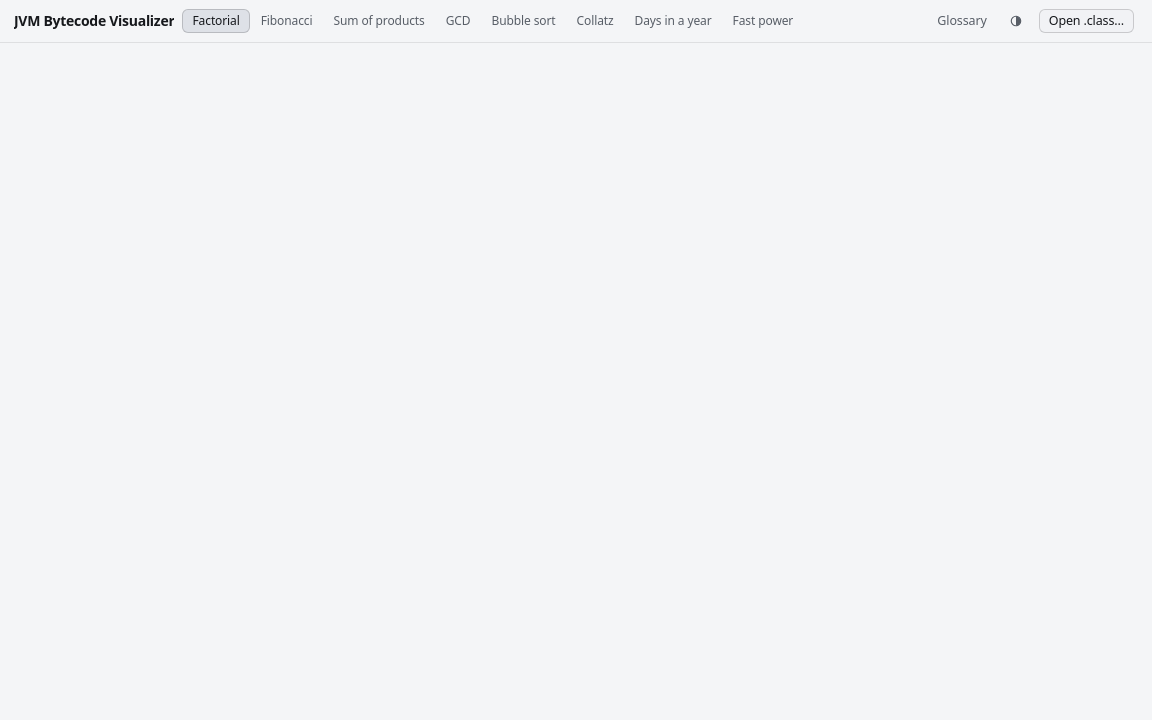
Test: Toolbar › opens the glossary without owning the dialog itself
Click the button with test id "toolbar-glossary": (962, 21) x1=927 y1=9 x2=997 y2=33
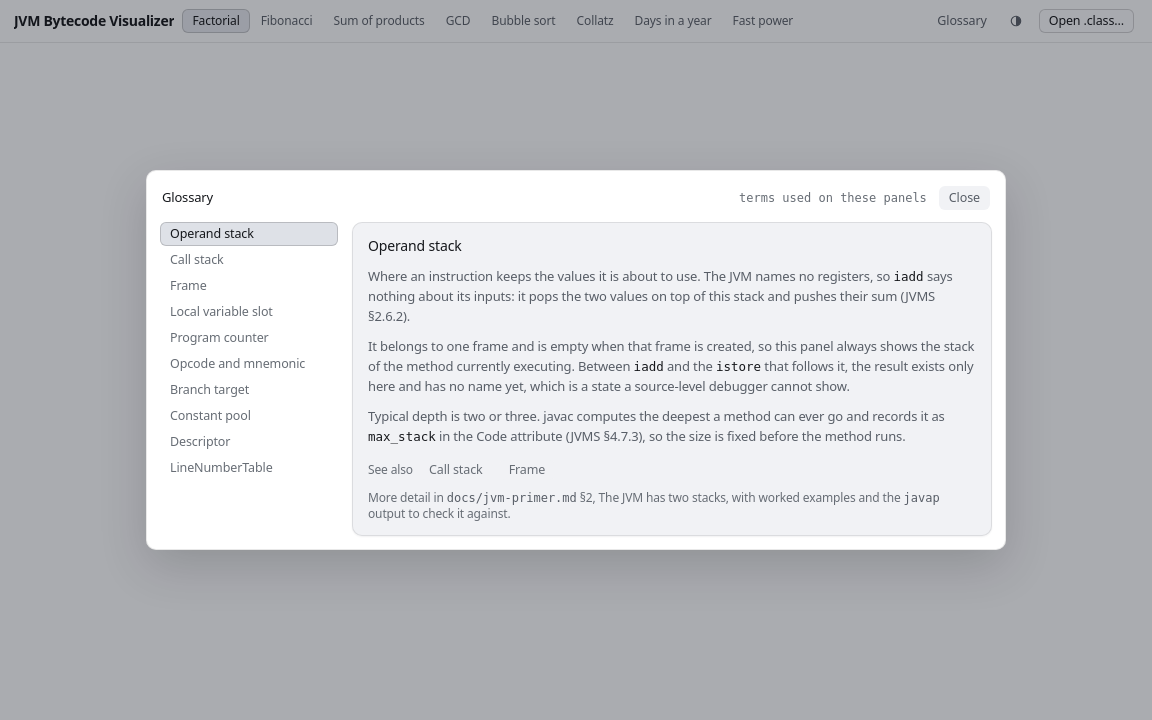
Expected: the dialog "Glossary" is shown, x1=146 y1=170 x2=1006 y2=550
